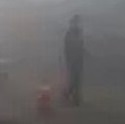person: (62, 14, 89, 107)
